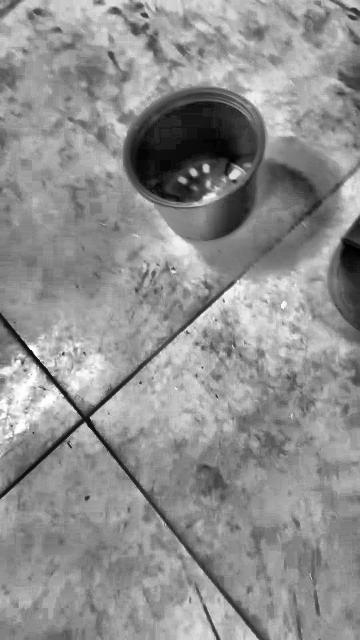pot: (124, 88, 266, 240)
